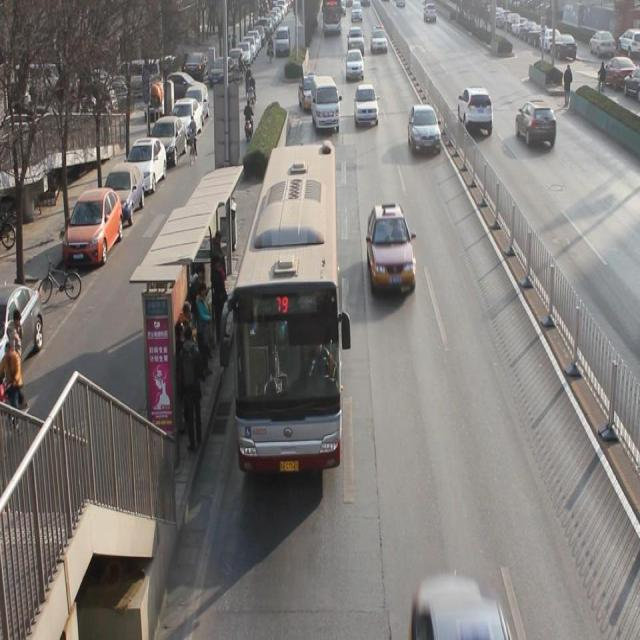car: (368, 207, 418, 297), (517, 99, 559, 150), (460, 88, 495, 141), (407, 105, 442, 156), (354, 82, 380, 130), (299, 72, 322, 113), (347, 27, 366, 58), (345, 52, 365, 81), (372, 24, 389, 55)
truck: (313, 76, 341, 133)
van: (232, 142, 339, 473), (322, 1, 340, 37)
